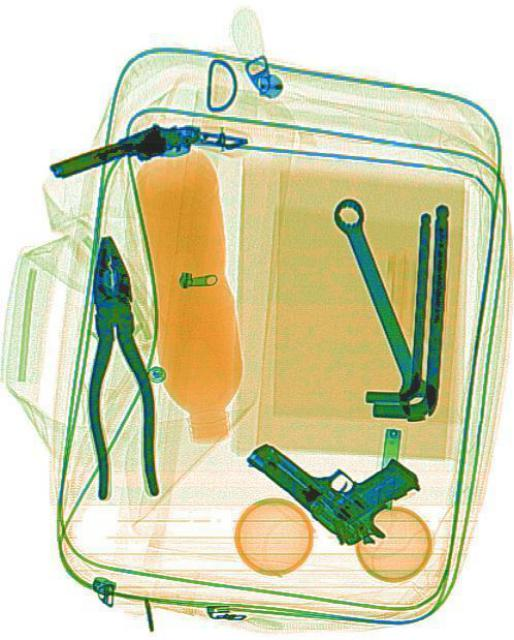Gun: (243, 373, 423, 565), (46, 109, 247, 177)
Pliers: (73, 230, 158, 500)
Wrench: (324, 188, 441, 424)
